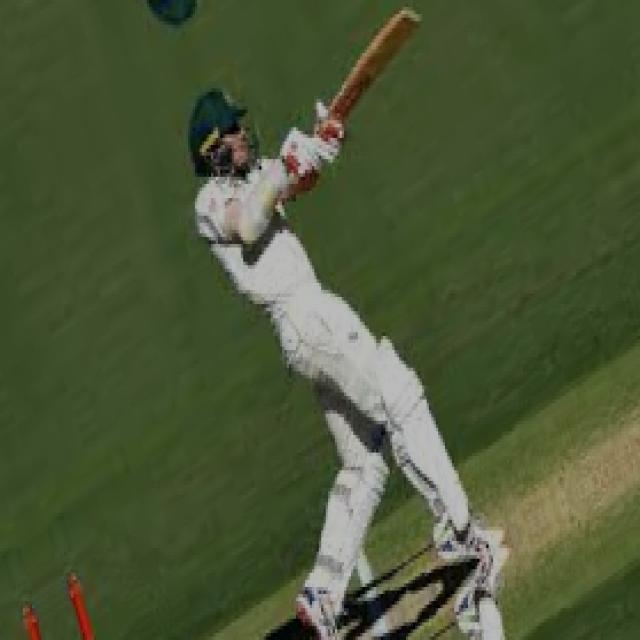toe: (392, 4, 427, 32)
